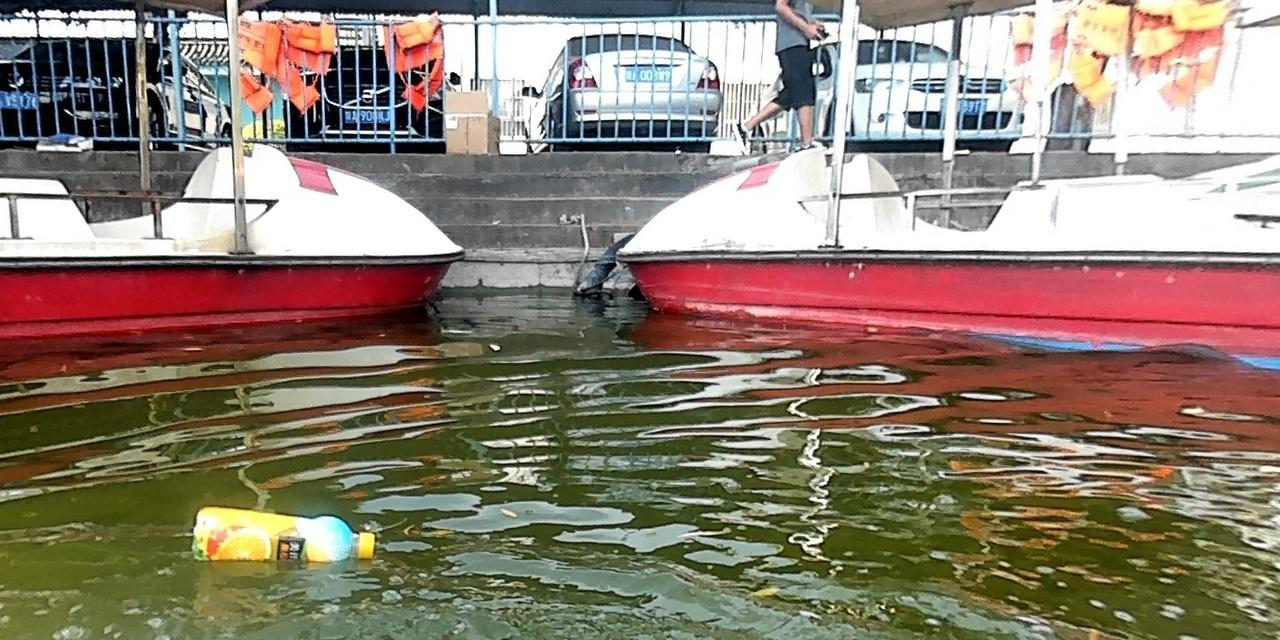bottle: (189, 503, 374, 563)
